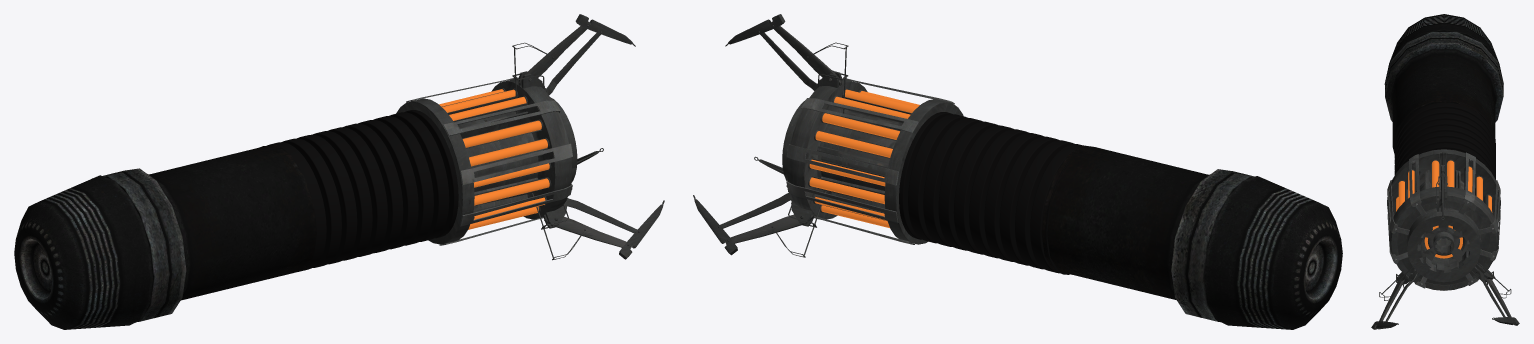
File: slide-3-2.glb
The picture shows the model from 3 angles, left to right: view 1: azimuth 30°, elevation 25°; view 2: azimuth 150°, elevation 25°; view 3: azimuth 270°, elevation 25°; orthographic projection. The views are drawn at different scales.
Parts seen in each view (by area): view 1: Object_6, Object_2, Object_9, Object_7, Object_3, Object_4, Object_8; view 2: Object_6, Object_2, Object_9, Object_3, Object_7, Object_4, Object_8; view 3: Object_9, Object_6, Object_2, Object_4, Object_3, Object_7, Object_8.
Part boxes in pixels (x1,y1,x2,y2): Object_6: (14,144,316,329); Object_2: (259,110,458,270); Object_9: (396,78,577,244); Object_7: (439,89,549,229); Object_3: (512,14,664,260); Object_4: (406,77,572,245); Object_8: (441,88,551,213); Object_6: (1041,145,1342,329); Object_2: (899,112,1081,274); Object_9: (782,79,963,244); Object_3: (693,14,848,257); Object_7: (809,89,919,227); Object_4: (786,78,954,244); Object_8: (808,88,911,220); Object_9: (1387,149,1500,290); Object_6: (1384,14,1503,153); Object_2: (1394,100,1495,179); Object_4: (1387,152,1500,288); Object_3: (1371,152,1519,329); Object_7: (1396,160,1492,258); Object_8: (1395,159,1492,213).
Bounding box in the file's own units: 7.18 × 2.44 × 1.99.
Materials: 7 (6 with a texture image).
